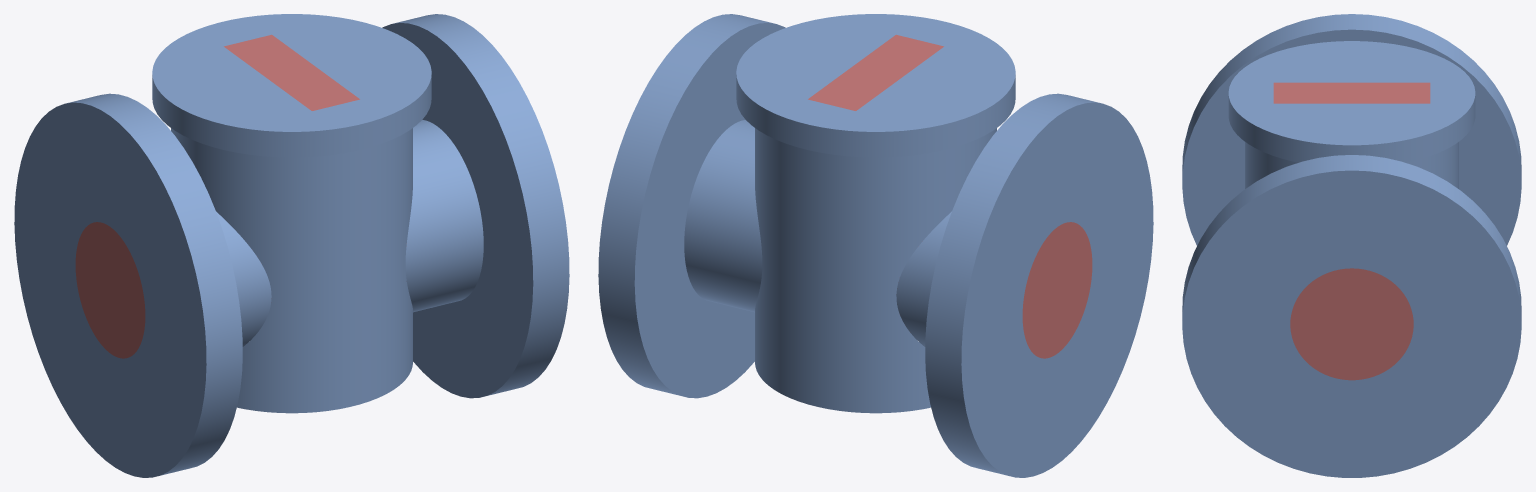
The model's file is step_10.glb.
3 renders of one model, left to right at view 1: azimuth 30°, elevation 25°; view 2: azimuth 150°, elevation 25°; view 3: azimuth 270°, elevation 25°, orthographic. The views are drawn at different scales.
Visible parts, largest first — view 1: part__body top valve, removed__body top valve; view 2: part__body top valve, removed__body top valve; view 3: part__body top valve, removed__body top valve.
Boxes of the visible parts, bbox=[...] form: part__body top valve: bbox=[14, 14, 569, 477]; removed__body top valve: bbox=[75, 34, 359, 358]; part__body top valve: bbox=[598, 14, 1153, 477]; removed__body top valve: bbox=[808, 34, 1092, 358]; part__body top valve: bbox=[1182, 14, 1521, 477]; removed__body top valve: bbox=[1273, 82, 1430, 380].
Bounding box in the file's own units: 180 × 165 × 165.
